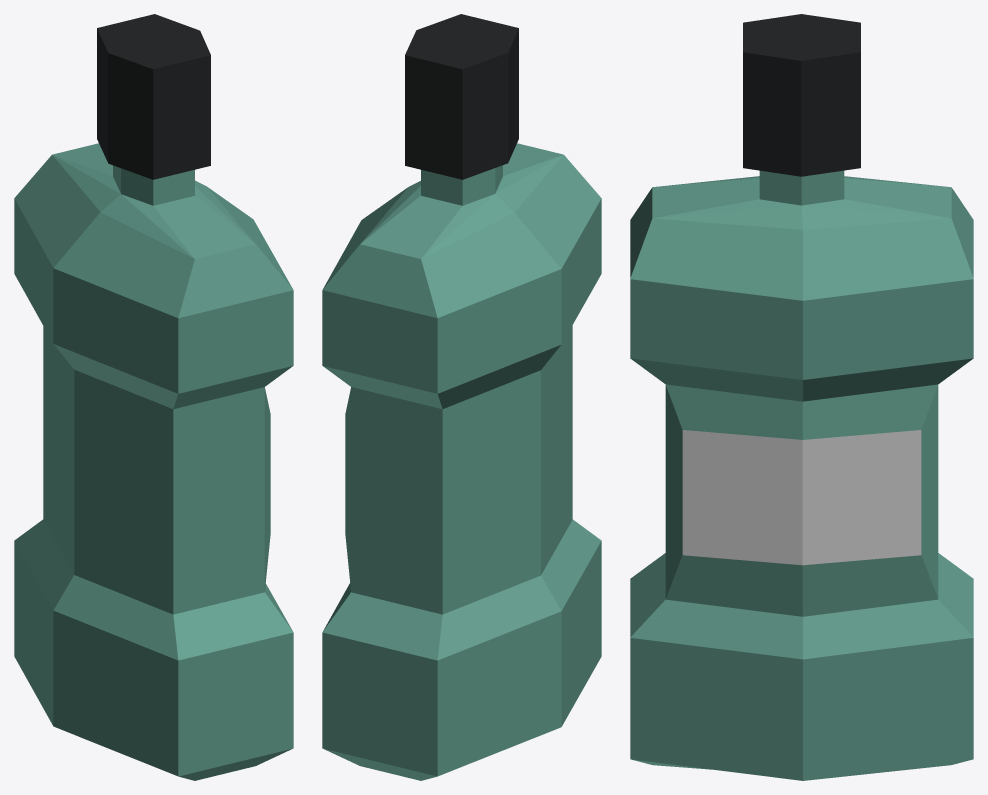
The model's file is SM_Item_Mouthwash_01.fbx.
3 renders of one model, left to right at view 1: azimuth 30°, elevation 25°; view 2: azimuth 150°, elevation 25°; view 3: azimuth 270°, elevation 25°, orthographic. The views are drawn at different scales.
Parts seen in each view (by area): view 1: SM_Item_Mouthwash_01; view 2: SM_Item_Mouthwash_01; view 3: SM_Item_Mouthwash_01.
Boxes of the visible parts, x1,y1,x2,y2 form: SM_Item_Mouthwash_01: (14,14,293,780); SM_Item_Mouthwash_01: (322,14,601,780); SM_Item_Mouthwash_01: (630,14,973,780).
Bounding box in the file's own units: 11.06 × 35.91 × 15.7.
